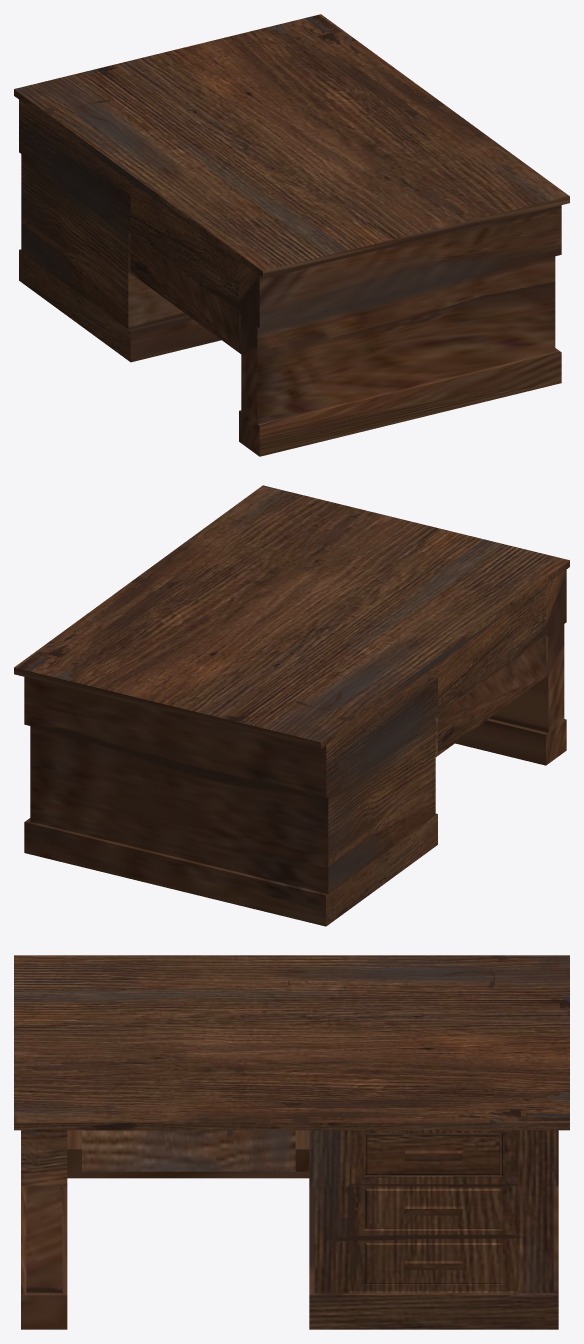
Rendered from desk.glb.
3 views of the same model, one above another, from view 1: azimuth 30°, elevation 25°; view 2: azimuth 150°, elevation 25°; view 3: azimuth 270°, elevation 25° (orthographic). The views are drawn at different scales.
Parts seen in each view (by area): view 1: Cube; view 2: Cube; view 3: Cube.
Boxes of the visible parts, x1=… form: Cube: x1=14, y1=14, x2=569, y2=456; Cube: x1=14, y1=485, x2=569, y2=926; Cube: x1=14, y1=955, x2=569, y2=1329.
Size of the model in its own units: 9.61 by 5.62 by 13.49.
1 material, 1 textured.
